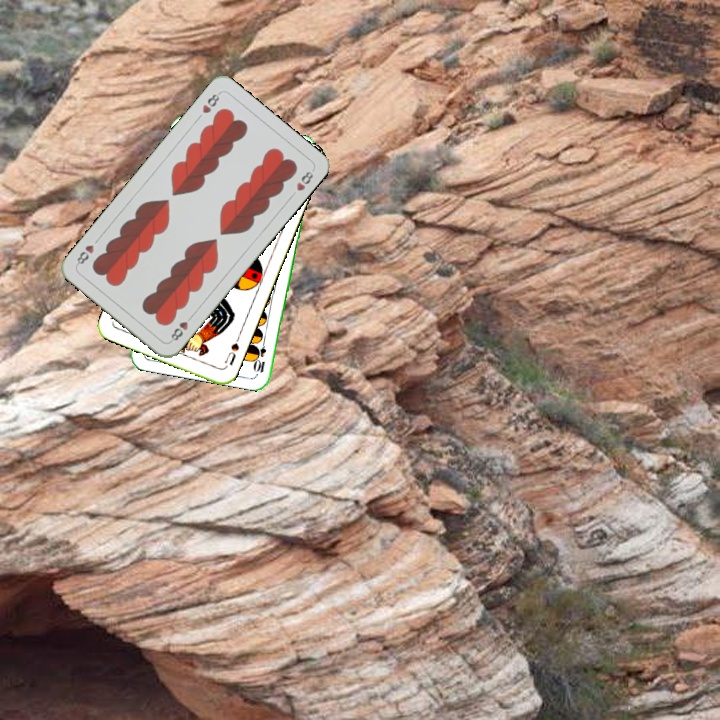E10: (252, 334, 269, 375)
H8: (166, 310, 196, 345), (198, 88, 223, 116)
SU: (221, 332, 242, 368)
